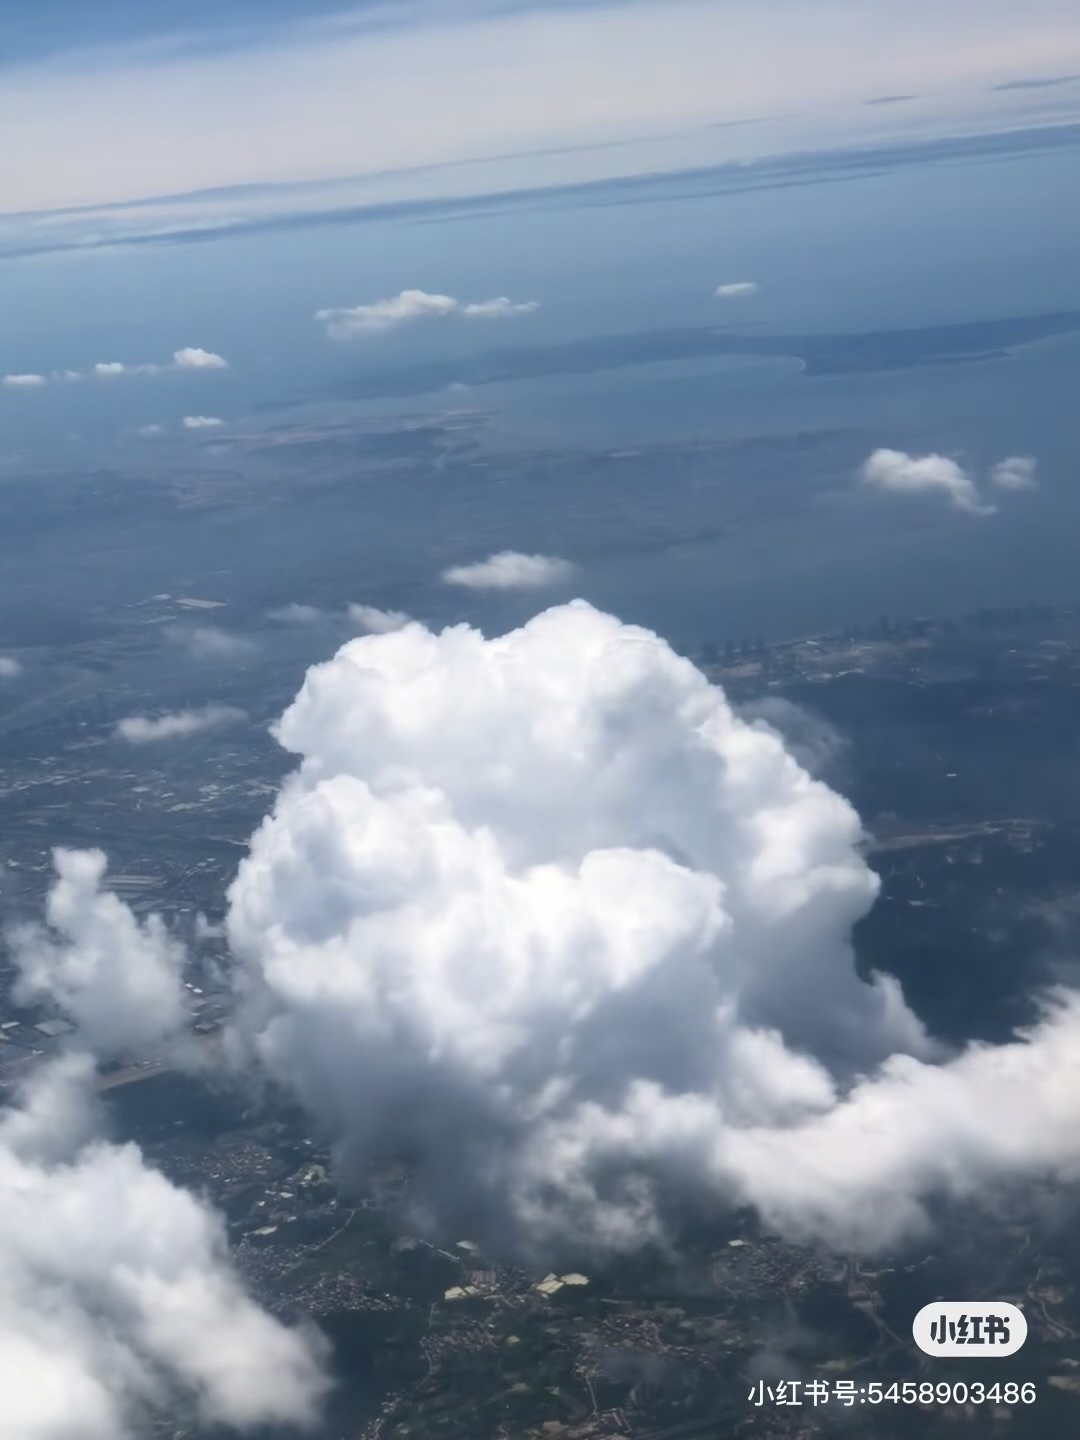Cumulus: (210, 554, 896, 1272)
